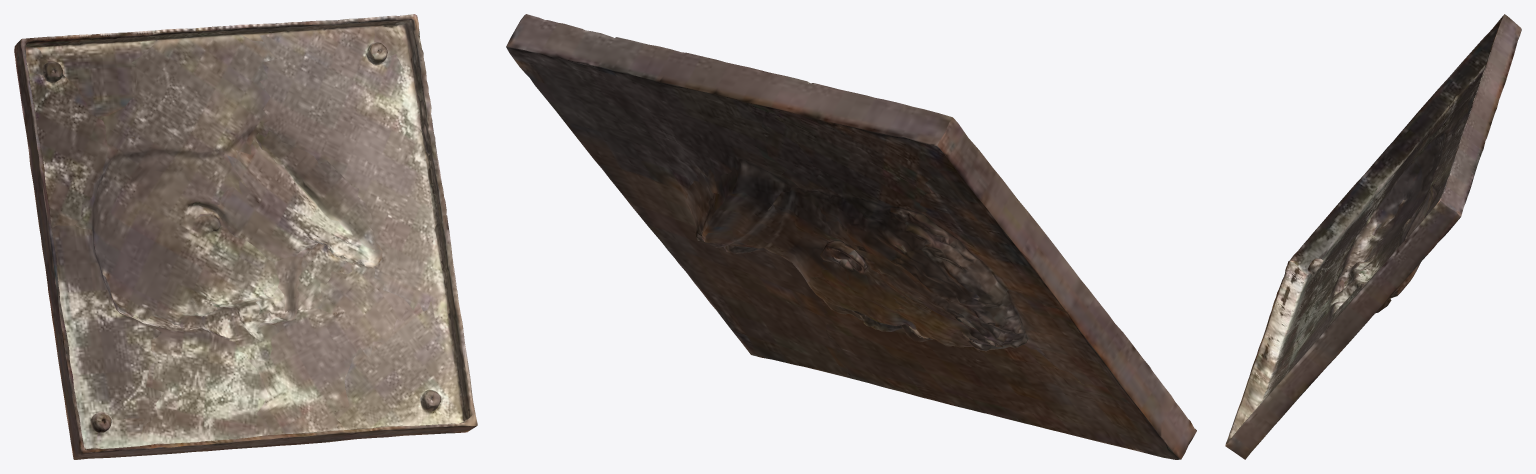
3 renders of one model, left to right at view 1: azimuth 30°, elevation 25°; view 2: azimuth 150°, elevation 25°; view 3: azimuth 270°, elevation 25°, orthographic. The views are drawn at different scales.
Size of the model in its own units: 607 by 492 by 417.
Materials: 1 (1 with a texture image).
